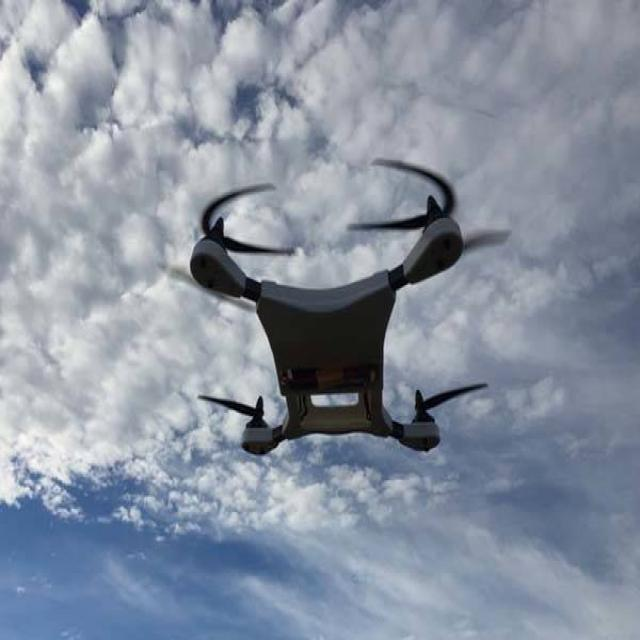drone: (153, 150, 520, 457)
